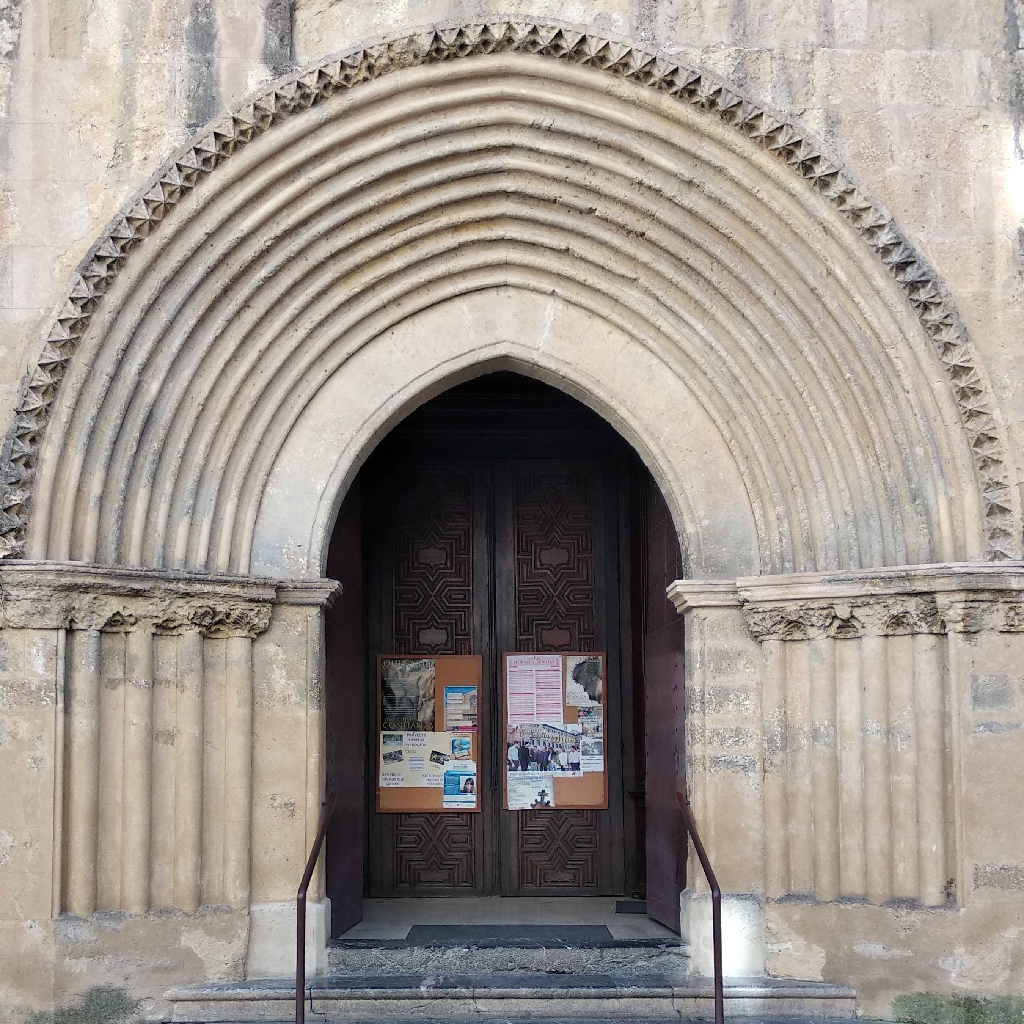arco-medio-punto: (296, 335, 702, 619)
